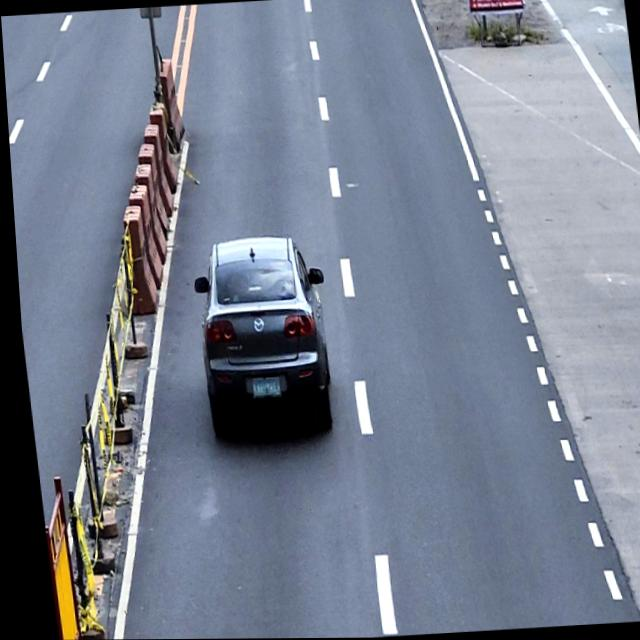Car: (183, 232, 339, 448)
License-Plate: (244, 376, 278, 400)
